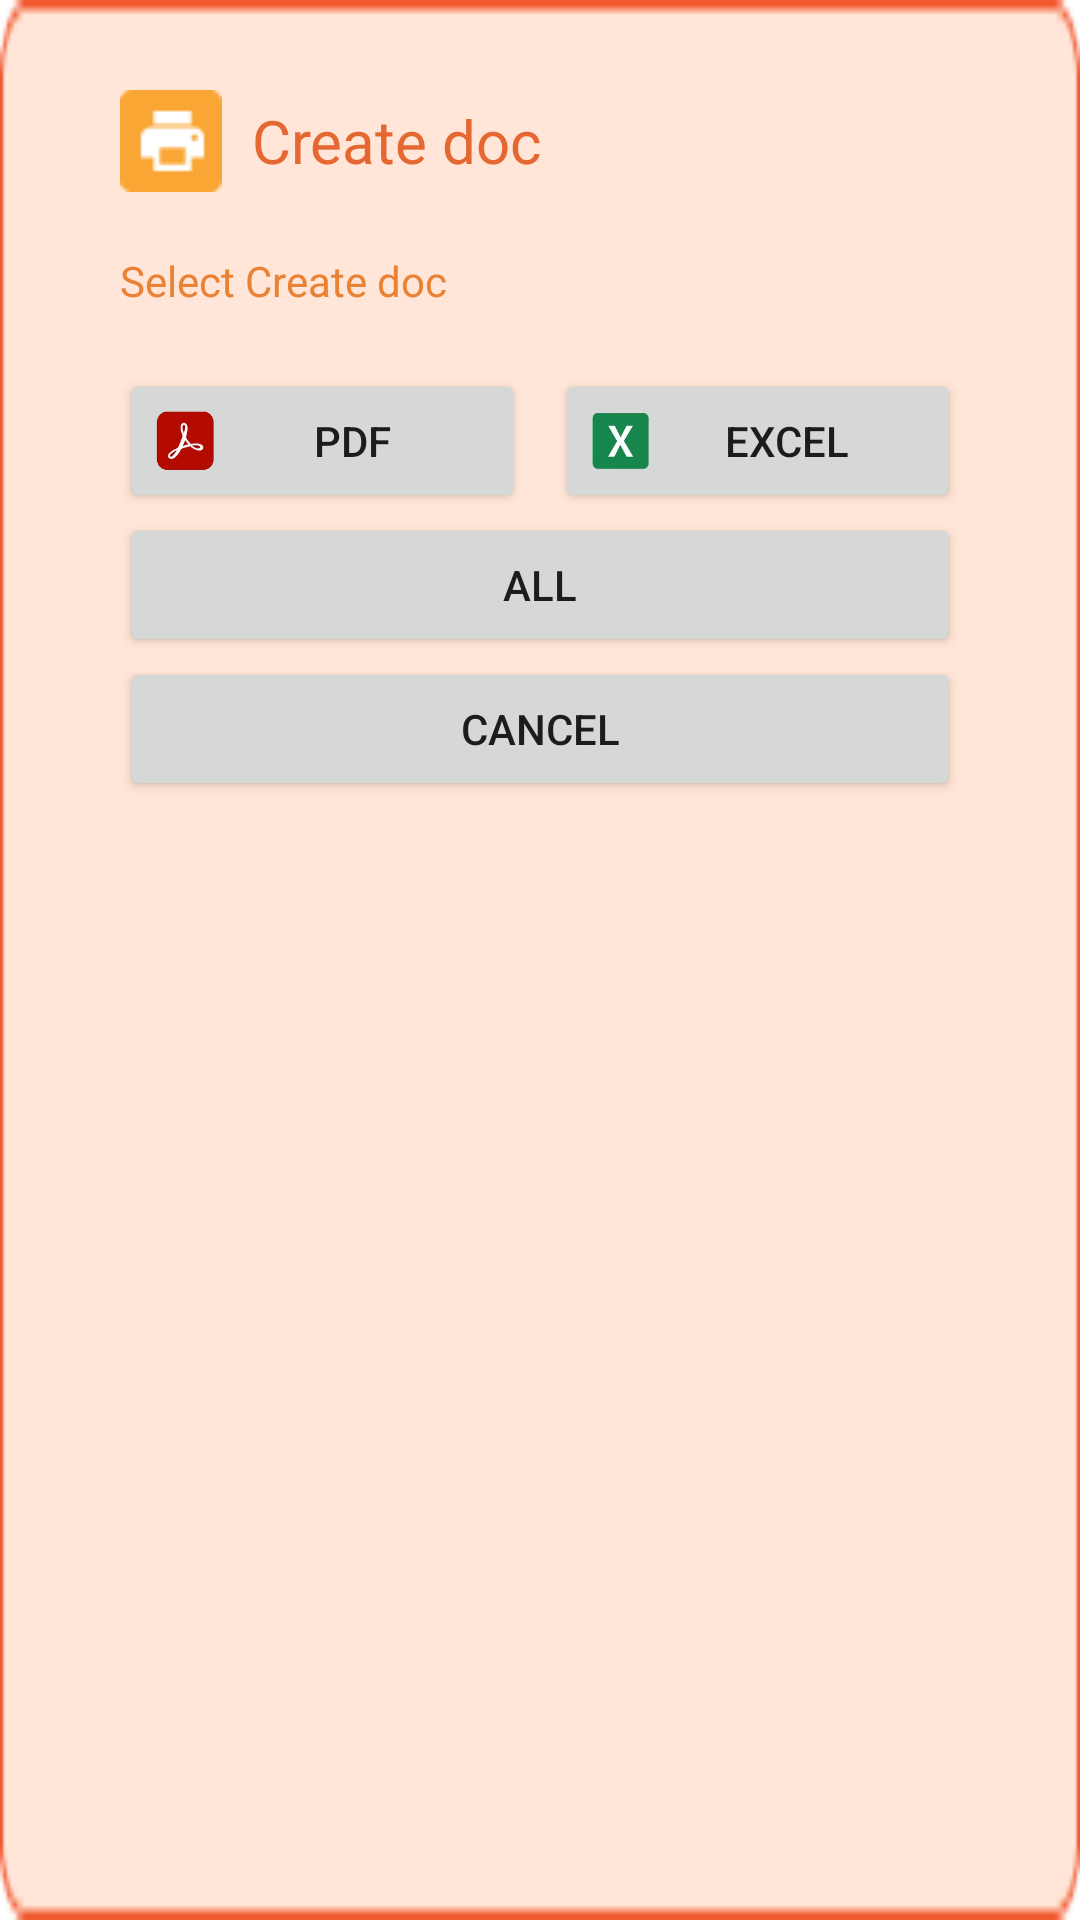

Screen size 1080px×1920px. Icon name, then its box in pixels as (x1, y1, x2, y2):
print: (120, 90, 222, 192)
